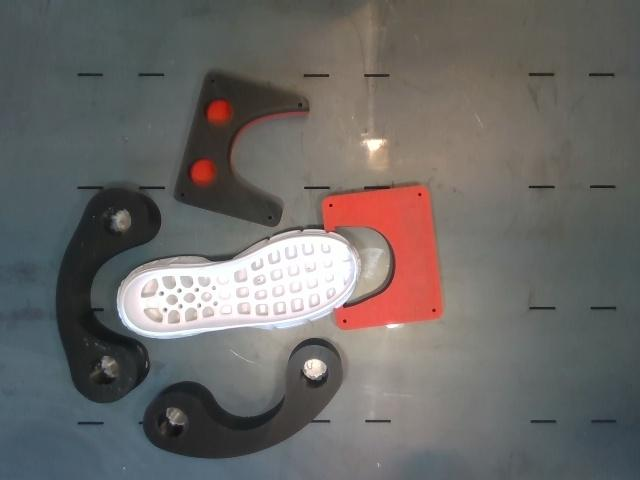shoes: (124, 237, 355, 332)
